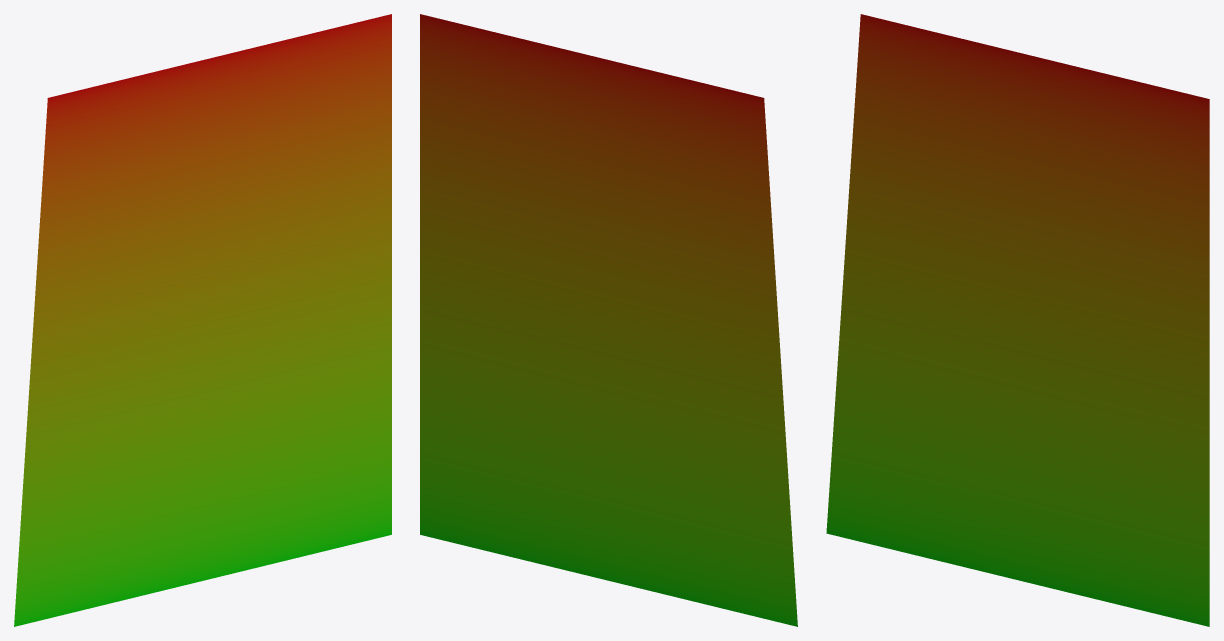
Rendered from Var5_LOD5.fbx.
The picture shows the model from 3 angles, left to right: view 1: azimuth 30°, elevation 25°; view 2: azimuth 150°, elevation 25°; view 3: azimuth 330°, elevation 25°; orthographic projection.
Parts seen in each view (by area): view 1: _7893_Var5_LOD5; view 2: _7893_Var5_LOD5; view 3: _7893_Var5_LOD5.
Part boxes in pixels (x1,y1,x2,y2): _7893_Var5_LOD5: [14, 14, 391, 626]; _7893_Var5_LOD5: [420, 14, 797, 626]; _7893_Var5_LOD5: [826, 14, 1209, 626].
Bounding box in the file's own units: 75.14 × 98.94 × 1.54e-05.
